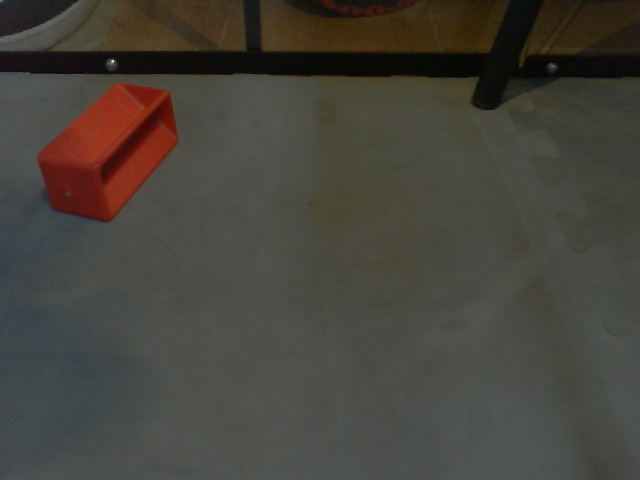RedSample: (34, 82, 178, 226)
